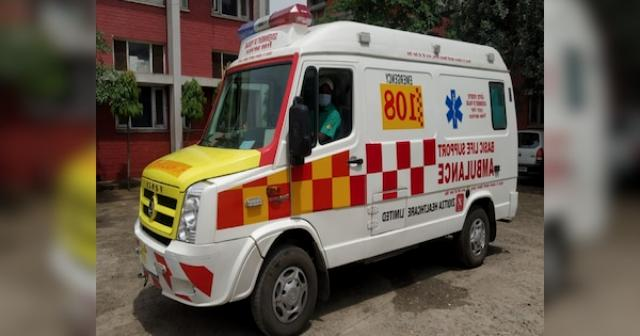ambulance: (127, 11, 521, 312)
